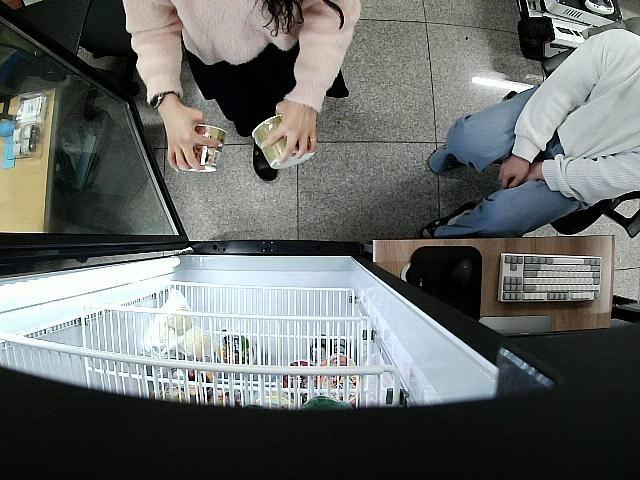03_chapagetti_L: (251, 112, 315, 168), (170, 123, 226, 172)
